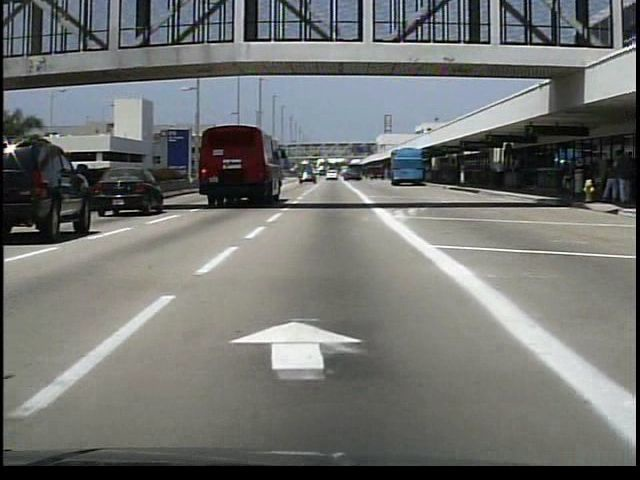person: (496, 162, 509, 192)
